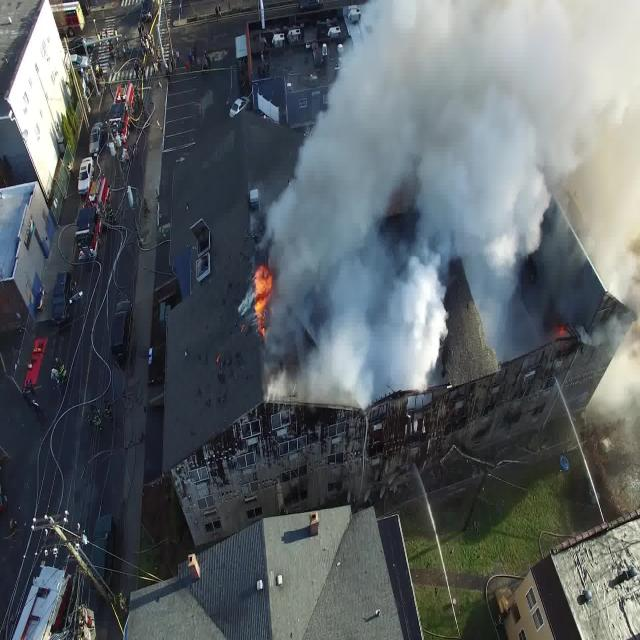Fire: (252, 260, 281, 318)
Smoke: (260, 0, 640, 396)
